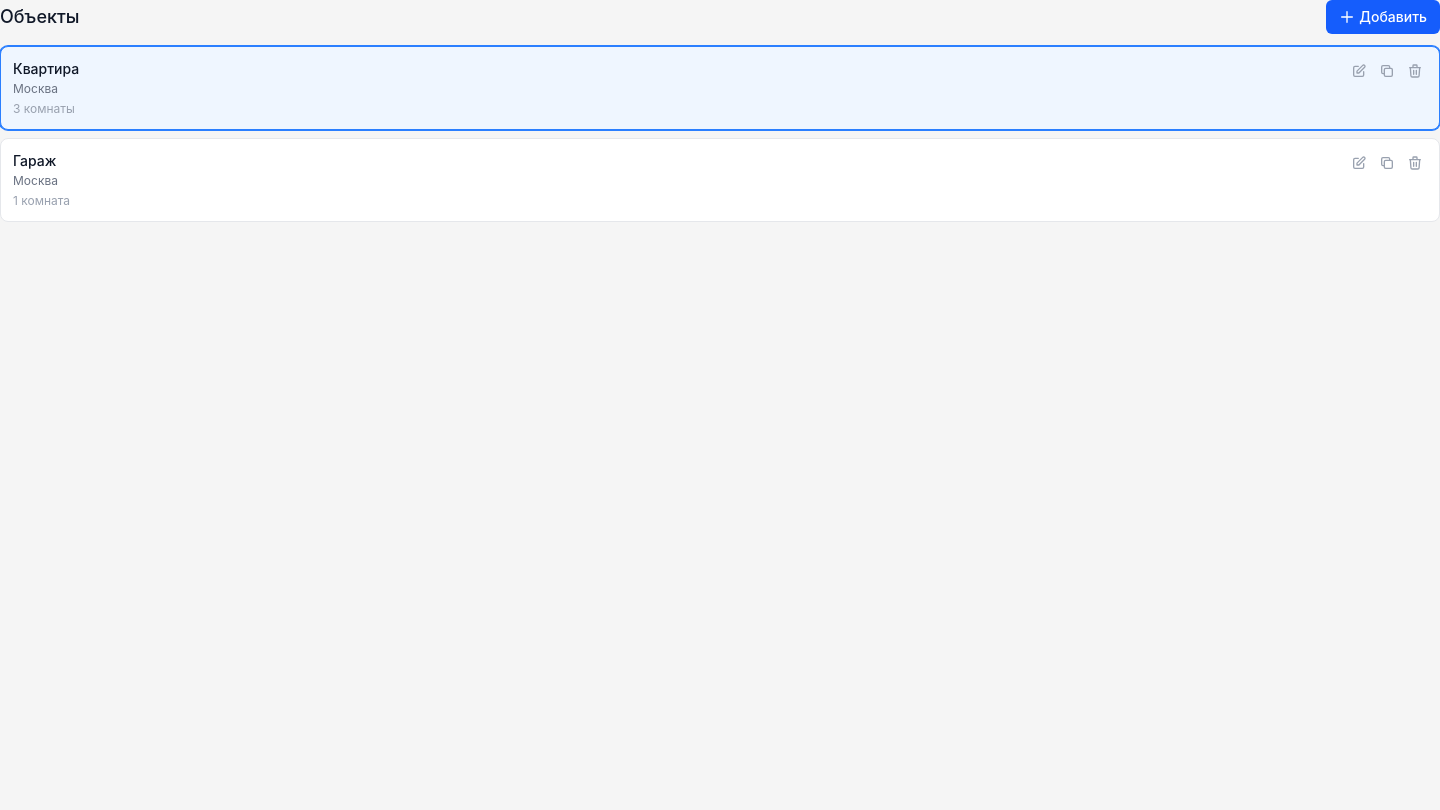
Scenario: ObjectsList › should show create modal when "Добавить" button clicked
The width and height of the screenshot is (1440, 810).
Click the button "Добавить" at (1383, 17), box left=1326, top=0, right=1439, bottom=34
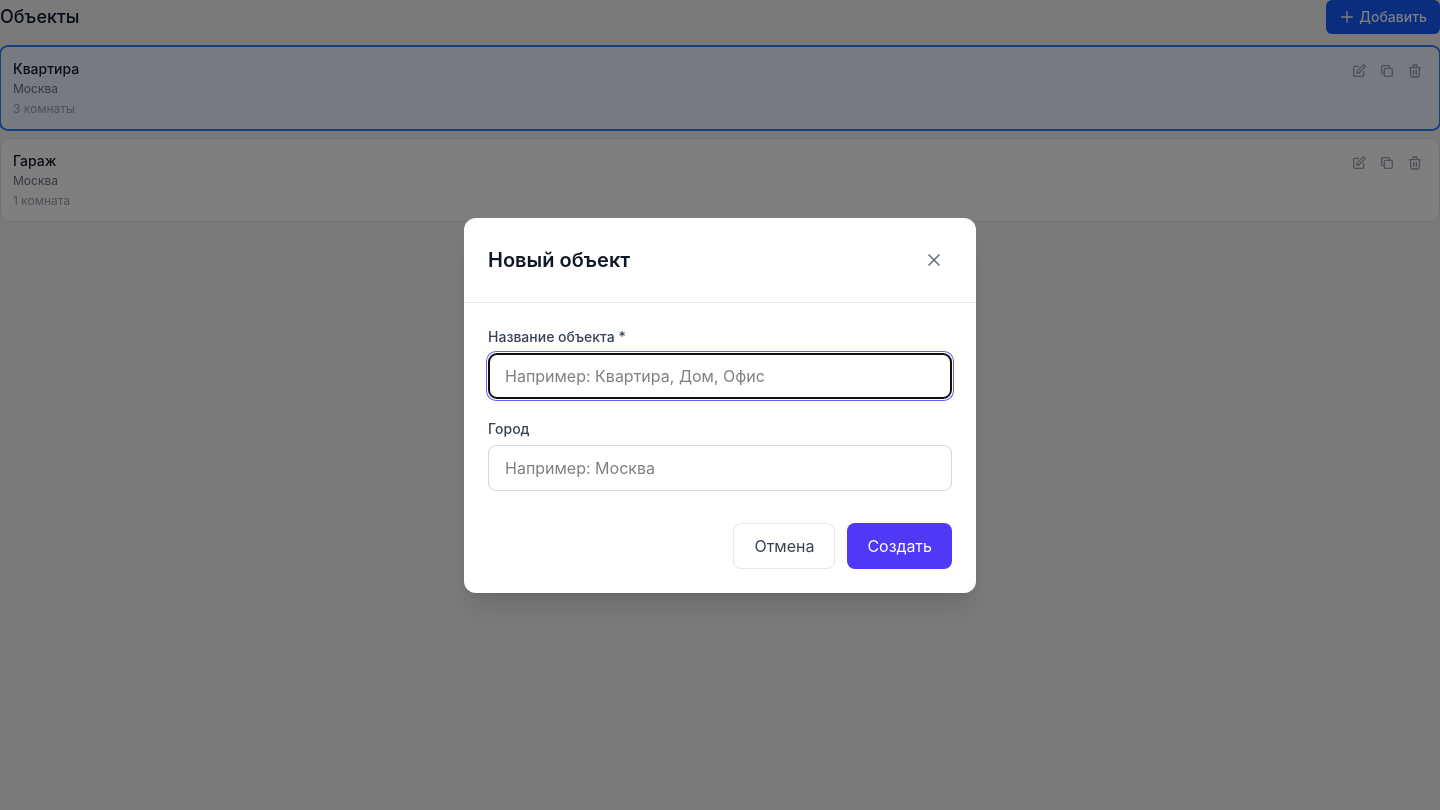
Now the element with test id "create-object-modal" is shown, box left=464, top=218, right=976, bottom=592
